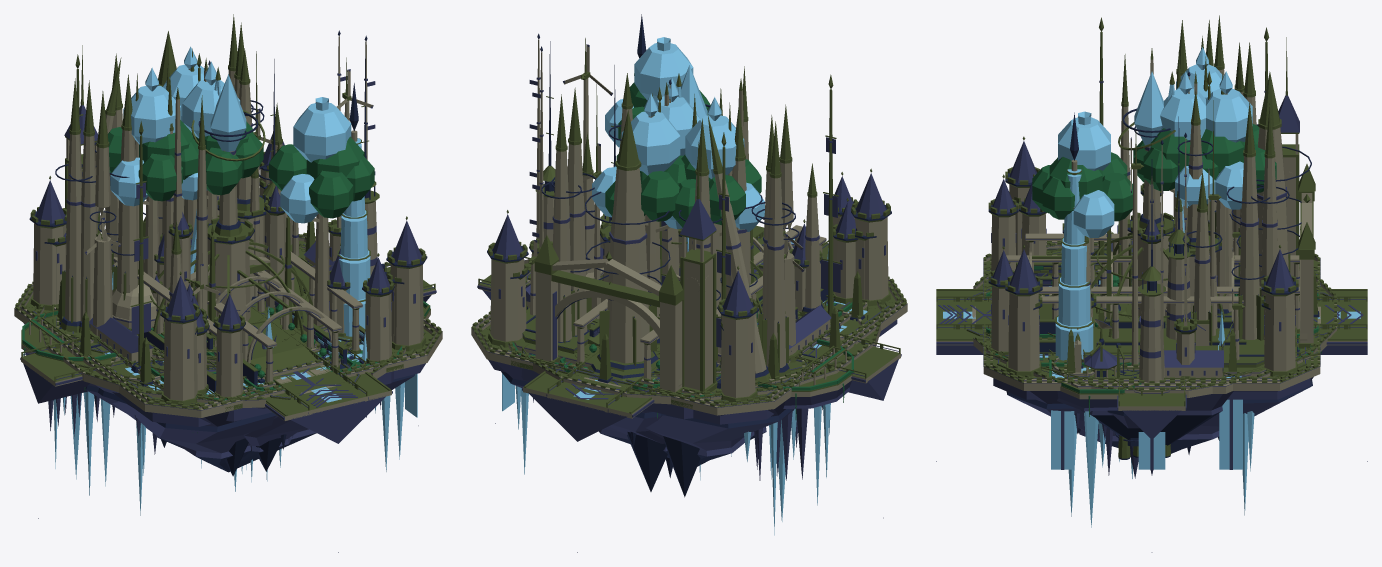
Rendered from SC_RECOLOR_RECLAIMED.fbx.
3 views of the same model, side by side, from view 1: azimuth 30°, elevation 25°; view 2: azimuth 150°, elevation 25°; view 3: azimuth 270°, elevation 25° (orthographic). The views are drawn at different scales.
Visible parts, largest first — view 1: chunk_spire_court__reclaimed, chunk_sky_tree_grove__reclaimed, chunk_boss_clearing__reclaimed, chunk_path_colonnade__reclaimed, chunk_aether_springs__reclaimed, chunk_parade_ground__reclaimed, chunk_spire_court_b__reclaimed, chunk_path_straight__reclaimed, chunk_side_garden__reclaimed, chunk_archive__reclaimed, chunk_entry__reclaimed, chunk_garden_terrace__reclaimed (+19 smaller); view 2: chunk_spire_court__reclaimed, chunk_boss_clearing__reclaimed, chunk_garden_terrace__reclaimed, chunk_archive__reclaimed, chunk_sky_tree_grove__reclaimed, chunk_parade_ground__reclaimed, chunk_path_colonnade__reclaimed, chunk_armory__reclaimed, chunk_spire_court_b__reclaimed, chunk_aether_springs__reclaimed, chunk_path_long_span__reclaimed, chunk_entry__reclaimed (+14 smaller); view 3: chunk_spire_court__reclaimed, chunk_boss_clearing__reclaimed, chunk_aether_springs__reclaimed, chunk_garden_terrace__reclaimed, chunk_sky_tree_grove__reclaimed, chunk_armory__reclaimed, chunk_archive__reclaimed, chunk_parade_ground__reclaimed, chunk_side_garden__reclaimed, chunk_spire_court_b__reclaimed, chunk_crossroads__reclaimed, chunk_path_bend_west__reclaimed (+17 smaller).
Boxes of the visible parts, box(x1,y1,x2,y2) form: chunk_spire_court__reclaimed: box(14, 22, 442, 472); chunk_sky_tree_grove__reclaimed: box(107, 67, 402, 473); chunk_boss_clearing__reclaimed: box(37, 31, 406, 443); chunk_path_colonnade__reclaimed: box(38, 78, 360, 479); chunk_aether_springs__reclaimed: box(20, 83, 425, 552); chunk_parade_ground__reclaimed: box(20, 14, 436, 426); chunk_spire_court_b__reclaimed: box(52, 57, 403, 471); chunk_path_straight__reclaimed: box(163, 95, 333, 399); chunk_side_garden__reclaimed: box(151, 61, 356, 403); chunk_archive__reclaimed: box(64, 45, 393, 421); chunk_entry__reclaimed: box(109, 74, 352, 382); chunk_garden_terrace__reclaimed: box(21, 46, 430, 495); chunk_spire_court__reclaimed: box(471, 87, 907, 465); chunk_boss_clearing__reclaimed: box(508, 110, 884, 415); chunk_garden_terrace__reclaimed: box(560, 93, 854, 505); chunk_archive__reclaimed: box(520, 142, 851, 435); chunk_sky_tree_grove__reclaimed: box(512, 37, 852, 418); chunk_parade_ground__reclaimed: box(477, 94, 901, 424); chunk_path_colonnade__reclaimed: box(552, 121, 811, 521); chunk_armory__reclaimed: box(525, 132, 869, 497); chunk_spire_court_b__reclaimed: box(511, 38, 869, 491); chunk_aether_springs__reclaimed: box(489, 14, 901, 552); chunk_path_long_span__reclaimed: box(515, 74, 864, 477); chunk_entry__reclaimed: box(559, 104, 830, 406); chunk_spire_court__reclaimed: box(983, 42, 1367, 453); chunk_boss_clearing__reclaimed: box(936, 71, 1336, 398); chunk_aether_springs__reclaimed: box(936, 112, 1367, 552); chunk_garden_terrace__reclaimed: box(984, 71, 1321, 527); chunk_sky_tree_grove__reclaimed: box(990, 47, 1312, 367); chunk_armory__reclaimed: box(936, 27, 1367, 445); chunk_archive__reclaimed: box(936, 37, 1367, 360); chunk_parade_ground__reclaimed: box(942, 103, 1365, 399); chunk_side_garden__reclaimed: box(947, 71, 1215, 328); chunk_spire_court_b__reclaimed: box(984, 130, 1319, 439); chunk_crossroads__reclaimed: box(937, 71, 1367, 439); chunk_path_bend_west__reclaimed: box(1096, 159, 1190, 395).
Size of the model in its own units: 256 by 256 by 256.
